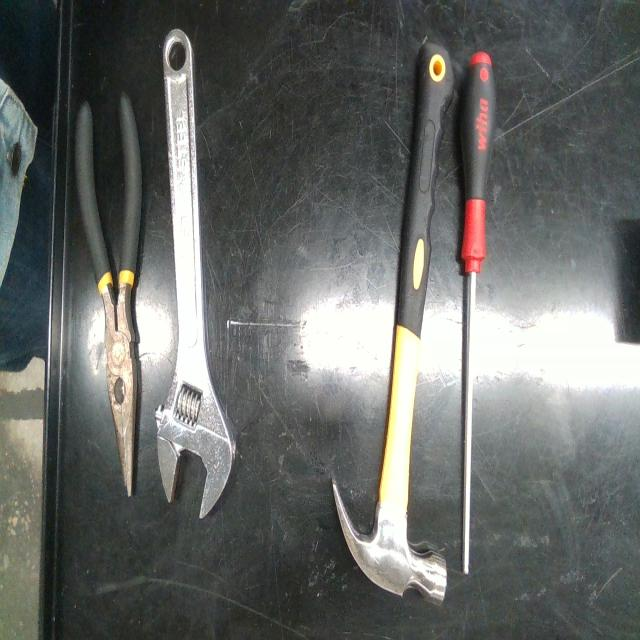Screwdriver: (461, 51, 495, 574)
